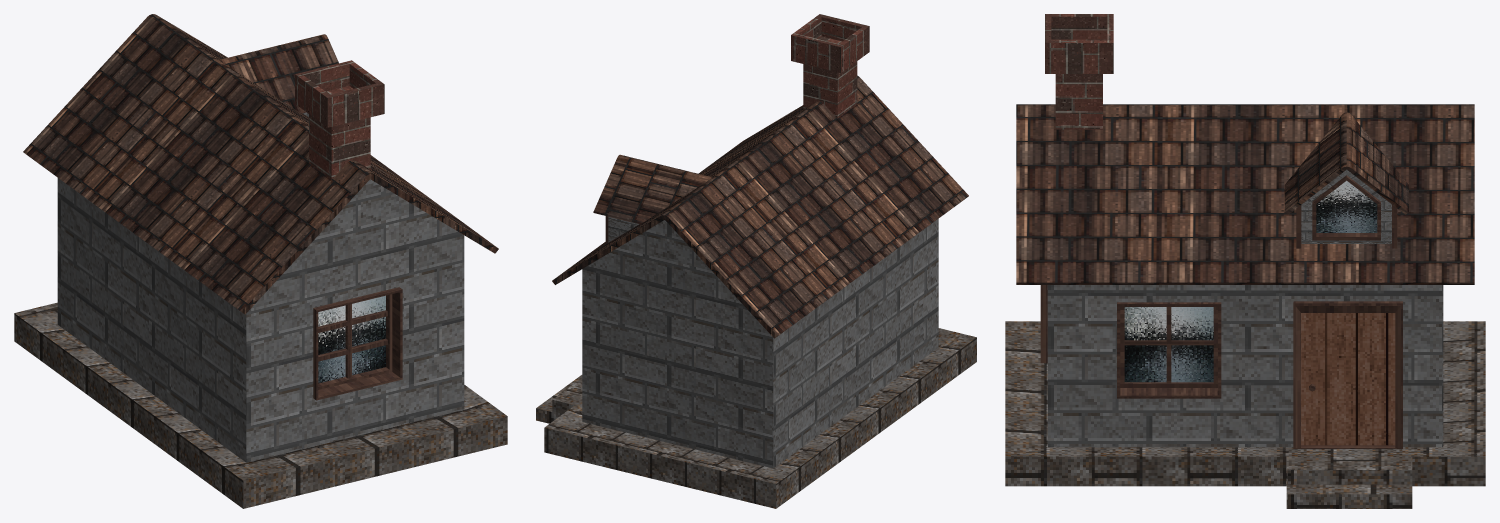
The model's file is pixel_house_lowpoly.fbx.
The picture shows the model from 3 angles, left to right: view 1: azimuth 30°, elevation 25°; view 2: azimuth 150°, elevation 25°; view 3: azimuth 270°, elevation 25°; orthographic projection. The views are drawn at different scales.
Parts seen in each view (by area): view 1: psx_house_wall, psx_house_roof, psx_house_base, psx_house_chimney, psx_house_wood, psx_house_glass; view 2: psx_house_wall, psx_house_roof, psx_house_base, psx_house_chimney; view 3: psx_house_roof, psx_house_wall, psx_house_base, psx_house_door, psx_house_wood, psx_house_glass, psx_house_chimney.
Boxes of the visible parts, x1=… form: psx_house_wall: x1=57, y1=112, x2=464, y2=462; psx_house_roof: x1=23, y1=14, x2=498, y2=314; psx_house_base: x1=14, y1=302, x2=507, y2=508; psx_house_chimney: x1=295, y1=60, x2=384, y2=179; psx_house_wood: x1=313, y1=287, x2=402, y2=400; psx_house_glass: x1=318, y1=295, x2=385, y2=383; psx_house_wall: x1=582, y1=216, x2=938, y2=468; psx_house_roof: x1=552, y1=75, x2=968, y2=338; psx_house_base: x1=536, y1=328, x2=976, y2=508; psx_house_chimney: x1=791, y1=14, x2=869, y2=118; psx_house_roof: x1=1016, y1=104, x2=1474, y2=284; psx_house_wall: x1=1047, y1=169, x2=1443, y2=447; psx_house_base: x1=1005, y1=321, x2=1485, y2=508; psx_house_door: x1=1301, y1=313, x2=1395, y2=445; psx_house_wood: x1=1040, y1=175, x2=1402, y2=448; psx_house_glass: x1=1124, y1=180, x2=1377, y2=382; psx_house_chimney: x1=1045, y1=14, x2=1113, y2=129.
Size of the model in its own units: 566 by 652 by 728.
